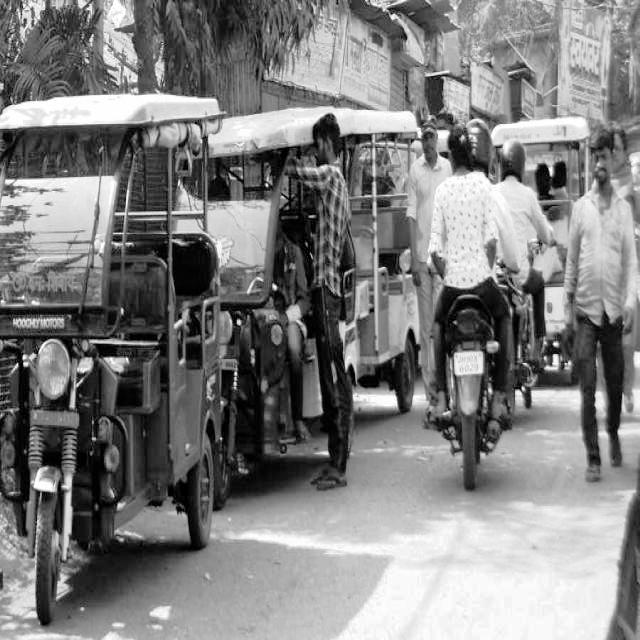Toto: (0, 90, 226, 630), (202, 103, 314, 501), (339, 104, 423, 412)
